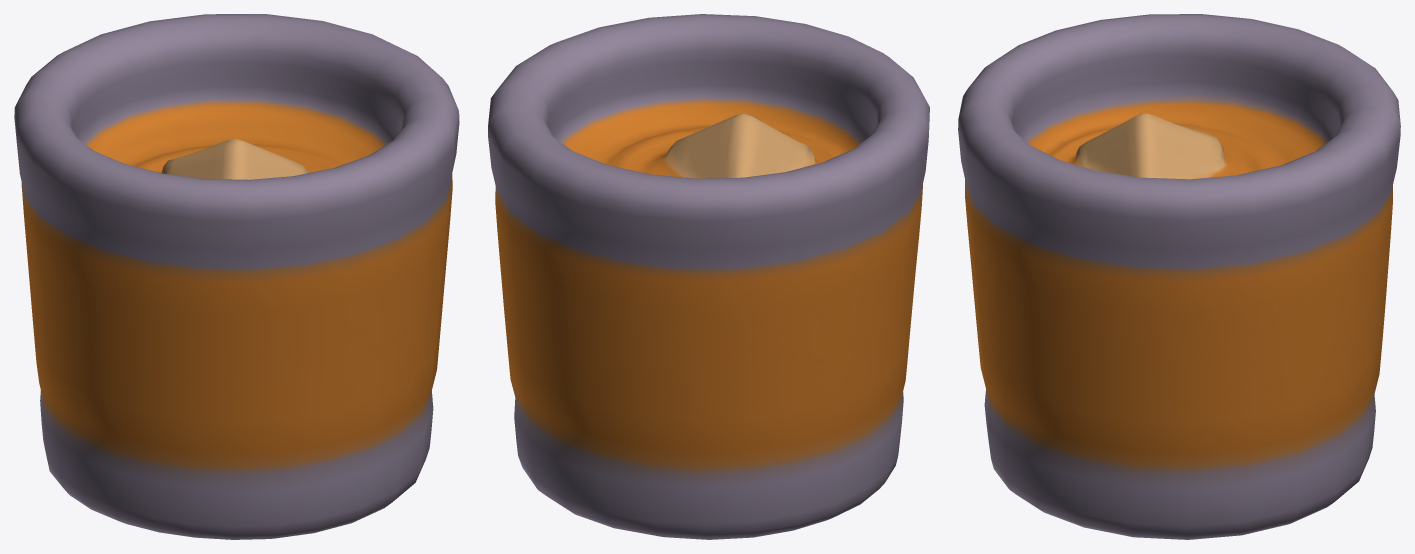
File: WhiskyGlass1.glb
3 views of the same model, side by side, from view 1: azimuth 30°, elevation 25°; view 2: azimuth 150°, elevation 25°; view 3: azimuth 270°, elevation 25° (orthographic).
Parts seen in each view (by area): view 1: WhiskyGlass1; view 2: WhiskyGlass1; view 3: WhiskyGlass1.
Boxes of the visible parts, box(x1,y1,x2,y2) form: WhiskyGlass1: box(14, 14, 459, 539); WhiskyGlass1: box(488, 14, 929, 539); WhiskyGlass1: box(958, 14, 1400, 539).
Size of the model in its own units: 0.00338 by 0.00316 by 0.00338.
1 material, 1 textured.
